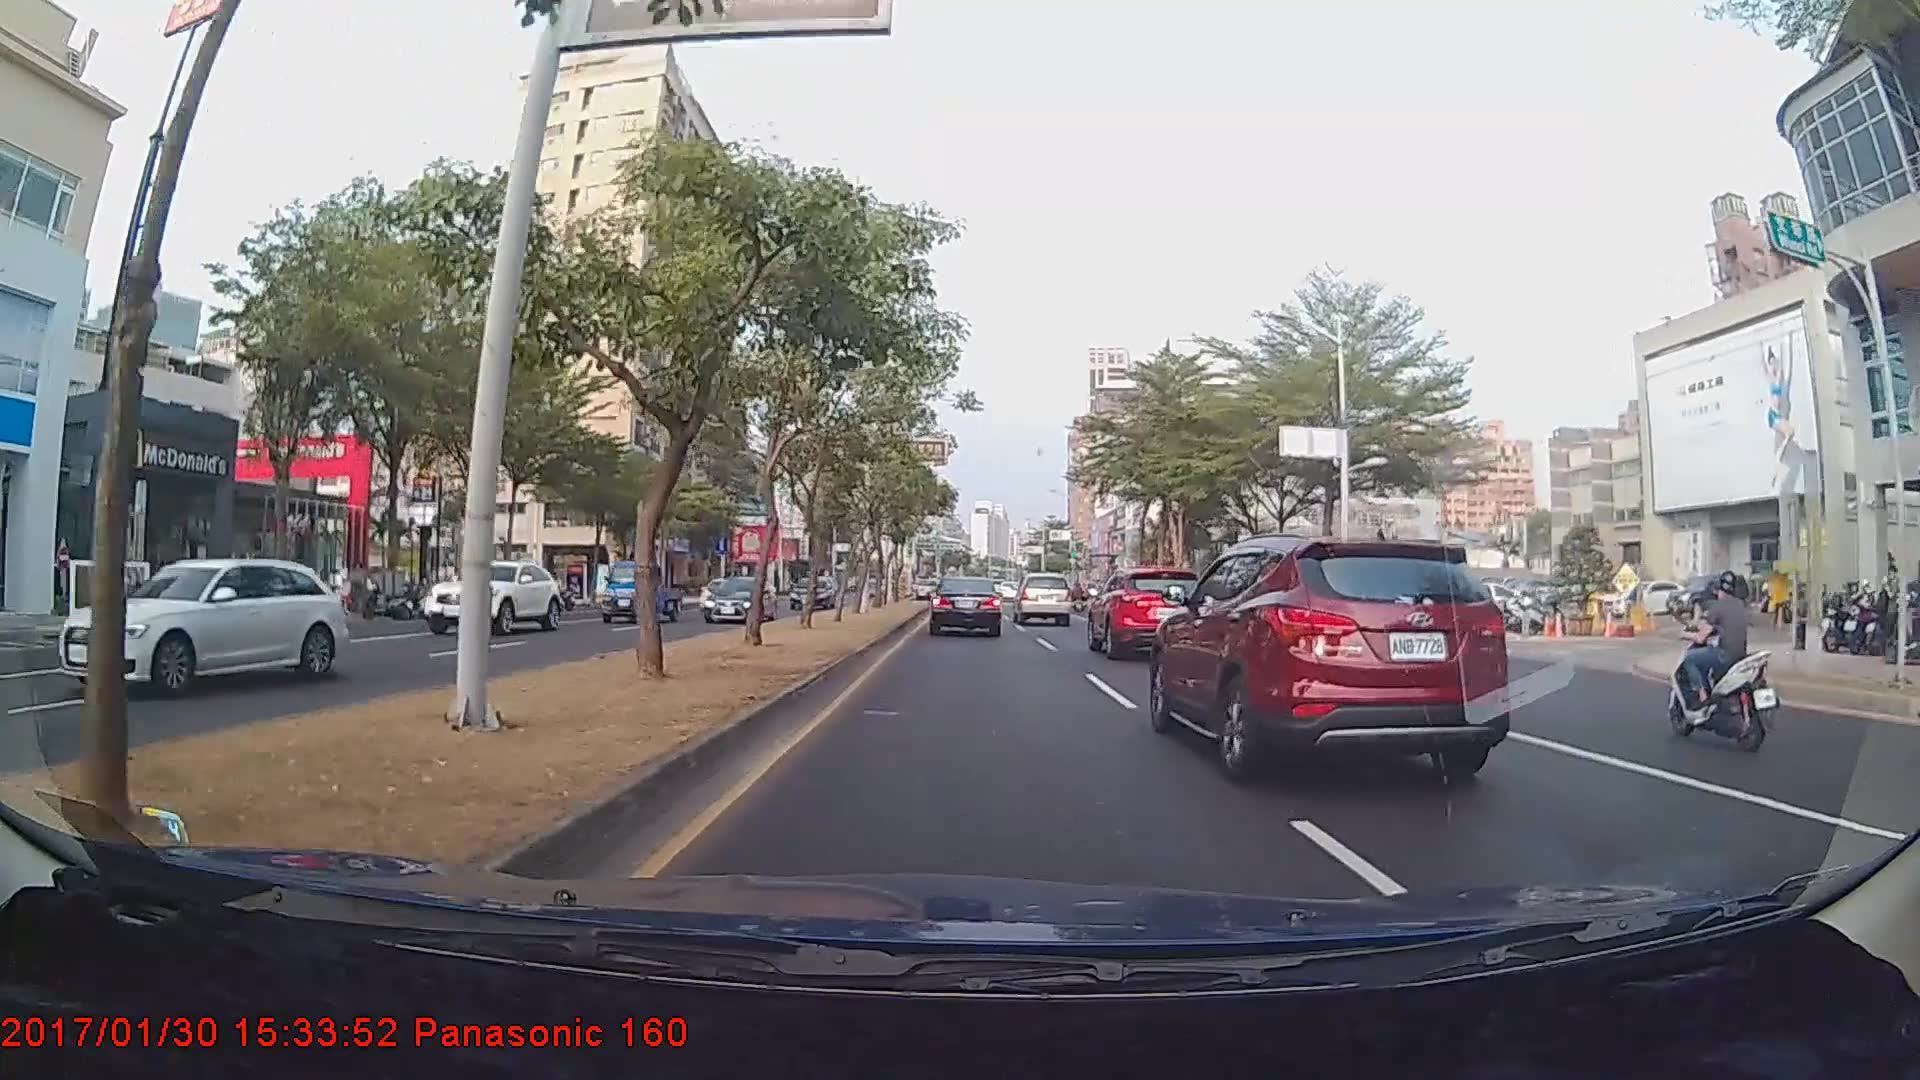rider: (1659, 567, 1781, 757)
vehicle: (1151, 535, 1506, 772), (55, 554, 346, 700), (1086, 568, 1210, 661), (423, 561, 566, 636), (600, 558, 683, 624), (929, 576, 1002, 637), (702, 572, 774, 627), (1012, 571, 1073, 627), (790, 574, 835, 611)
